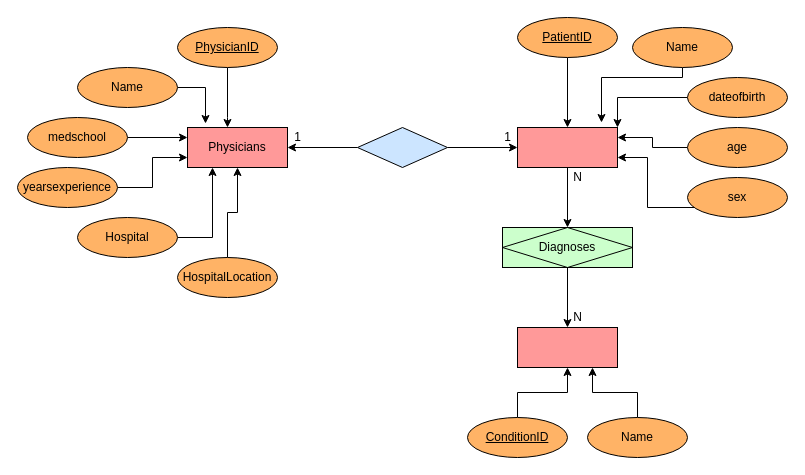
The diagram is 805 pixels wide and 475 high, and some of its shapes have lost their labels. Each missing label, with the centre of its shape:
Cares for: (x=402, y=147)
Conditions: (x=567, y=347)
Patients: (x=567, y=147)
